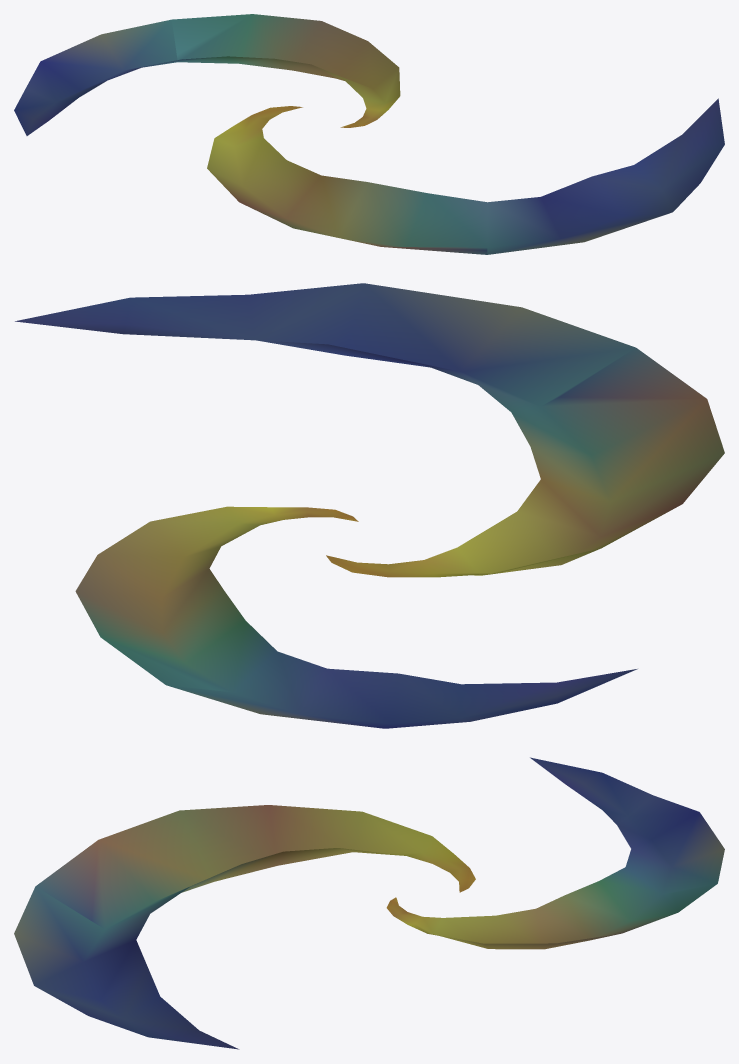
Rendered from space-galaxies-spiral-galaxy_v2.glb.
3 renders of one model, top to bottom at view 1: azimuth 30°, elevation 25°; view 2: azimuth 150°, elevation 25°; view 3: azimuth 270°, elevation 25°, orthographic. The views are drawn at different scales.
Visible parts, largest first — view 1: Spiral Galaxy_v2; view 2: Spiral Galaxy_v2; view 3: Spiral Galaxy_v2.
Part boxes in pixels (x1,y1,x2,y2): Spiral Galaxy_v2: (14, 14, 724, 254); Spiral Galaxy_v2: (15, 283, 724, 728); Spiral Galaxy_v2: (14, 757, 724, 1049).
Bounding box in the file's own units: 0.4873 × 0.0306 × 0.5.
